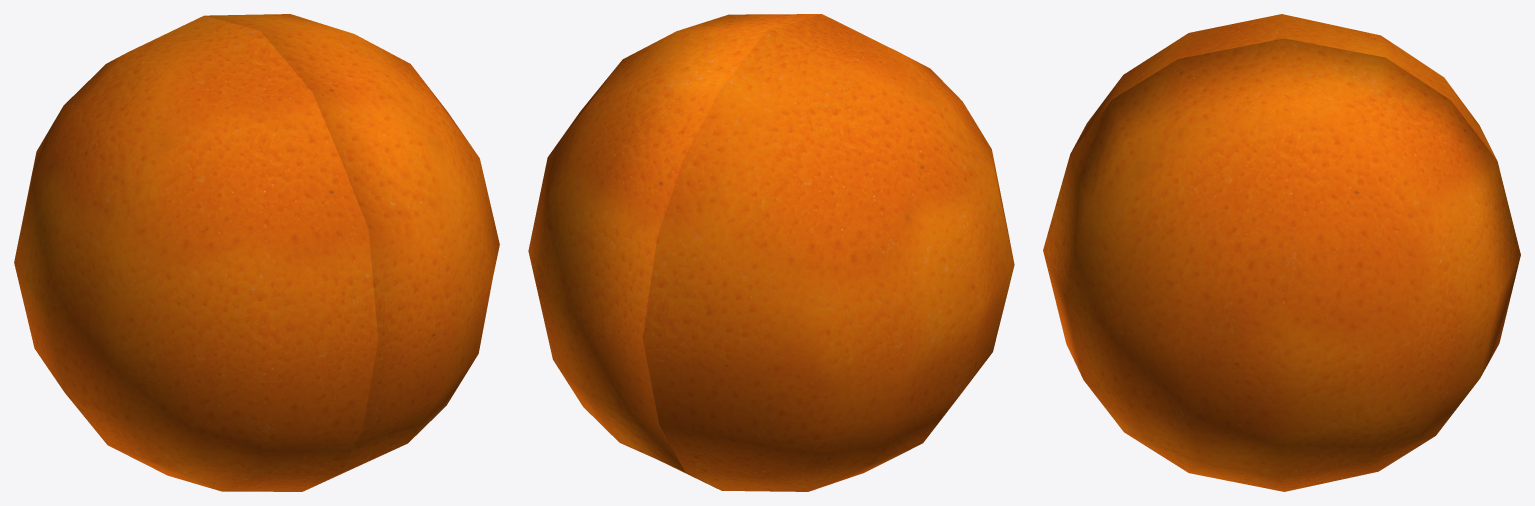
File: orange.fbx
The picture shows the model from 3 angles, left to right: view 1: azimuth 30°, elevation 25°; view 2: azimuth 150°, elevation 25°; view 3: azimuth 270°, elevation 25°; orthographic projection. The views are drawn at different scales.
Parts seen in each view (by area): view 1: orange_part, orange_part2; view 2: orange_part, orange_part2; view 3: orange_part2, orange_part.
Boxes of the visible parts, x1,y1,x2,y2 form: orange_part: (14,15,378,491); orange_part2: (205,14,499,489); orange_part: (642,14,1014,491); orange_part2: (528,14,821,488); orange_part2: (1043,38,1520,491); orange_part: (1070,14,1496,159).
Size of the model in its own units: 16.37 by 16.36 by 16.37.
